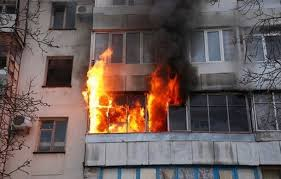fire: (83, 66, 182, 133)
